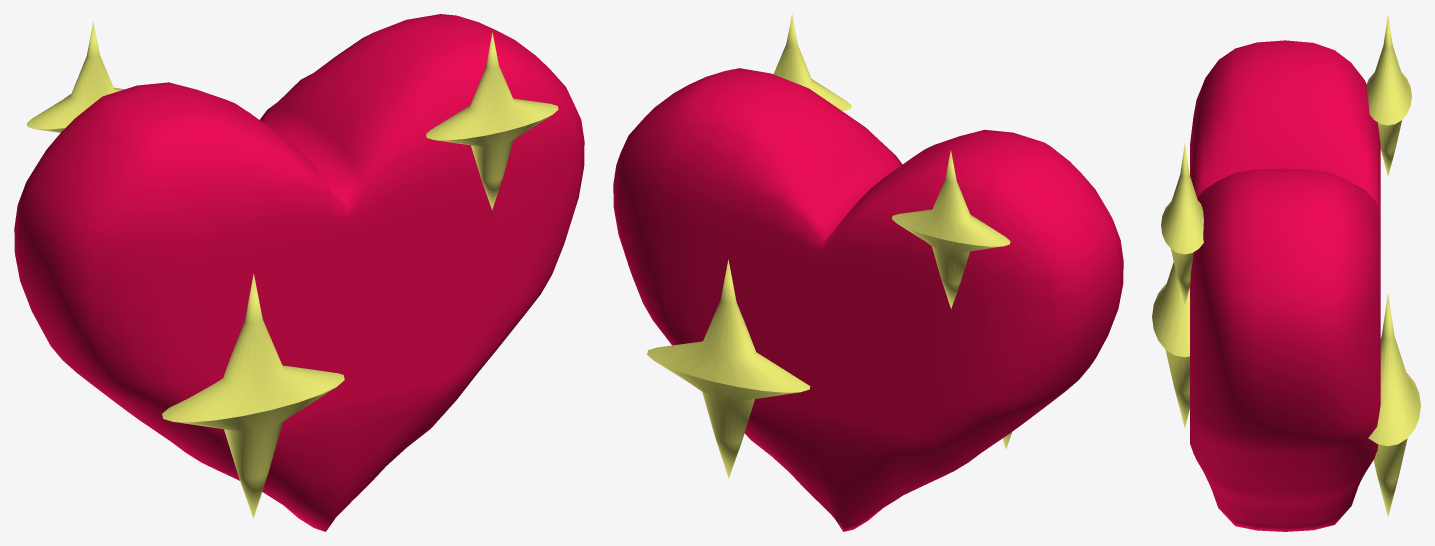
The model's file is HEART.fbx.
3 renders of one model, left to right at view 1: azimuth 30°, elevation 25°; view 2: azimuth 150°, elevation 25°; view 3: azimuth 270°, elevation 25°, orthographic. The views are drawn at different scales.
Parts seen in each view (by area): view 1: pCone5; view 2: pCone5; view 3: pCone5.
Part boxes in pixels (bbox=[...]): pCone5: bbox=[14, 14, 584, 531]; pCone5: bbox=[613, 14, 1123, 531]; pCone5: bbox=[1152, 14, 1420, 531].
Bounding box in the file's own units: 7.76 × 6.85 × 3.7.
